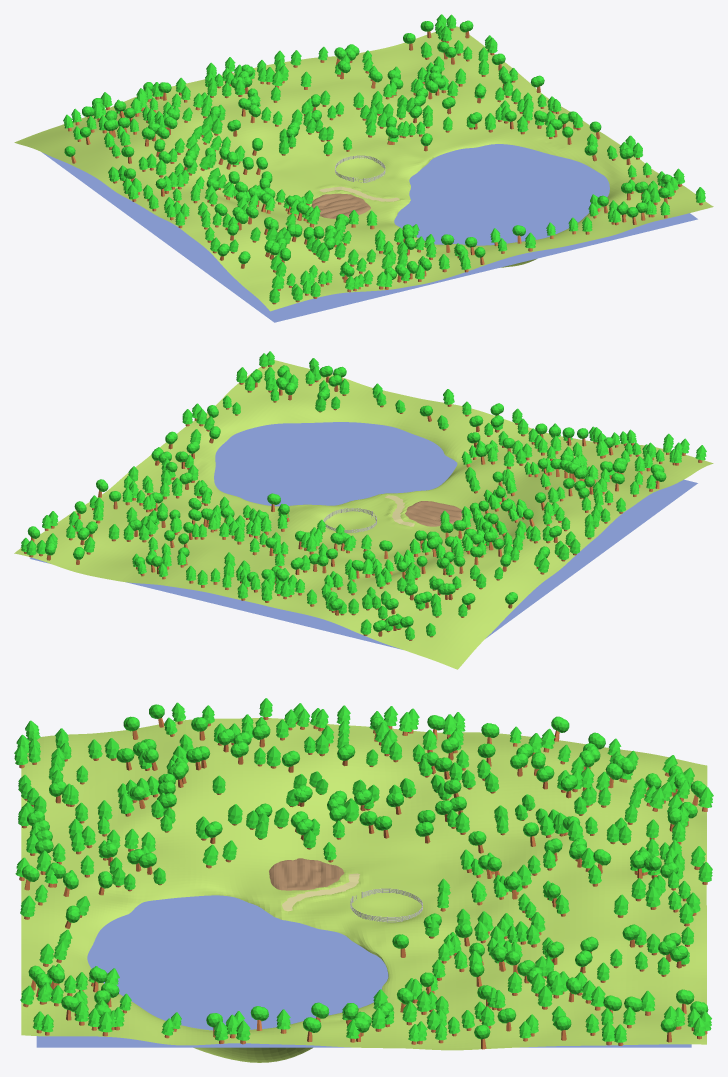
Rendered from plains.fbx.
The picture shows the model from 3 angles, top to bottom: view 1: azimuth 30°, elevation 25°; view 2: azimuth 150°, elevation 25°; view 3: azimuth 270°, elevation 25°; orthographic projection. The views are drawn at different scales.
Parts seen in each view (by area): view 1: Plains.001, Water.001, Trees, Farm; view 2: Plains.001, Water.001, Trees, Farm; view 3: Plains.001, Trees, Water.001, Farm, Fence.001, Road.001.
Part boxes in pixels (left/top/right/bottom): Plains.001: left=14, top=14, right=713, bottom=311; Water.001: left=42, top=144, right=697, bottom=322; Trees: left=64, top=20, right=671, bottom=282; Farm: left=311, top=193, right=370, bottom=218; Plains.001: left=14, top=351, right=713, bottom=669; Water.001: left=30, top=422, right=697, bottom=649; Trees: left=27, top=365, right=666, bottom=636; Farm: left=405, top=501, right=462, bottom=526; Plains.001: left=14, top=698, right=713, bottom=1062; Trees: left=21, top=704, right=708, bottom=1049; Water.001: left=36, top=895, right=691, bottom=1047; Farm: left=269, top=858, right=344, bottom=890; Fence.001: left=350, top=888, right=422, bottom=922; Road.001: left=282, top=873, right=359, bottom=911.
Bounding box in the file's own units: 25166 × 25125 × 5615.
